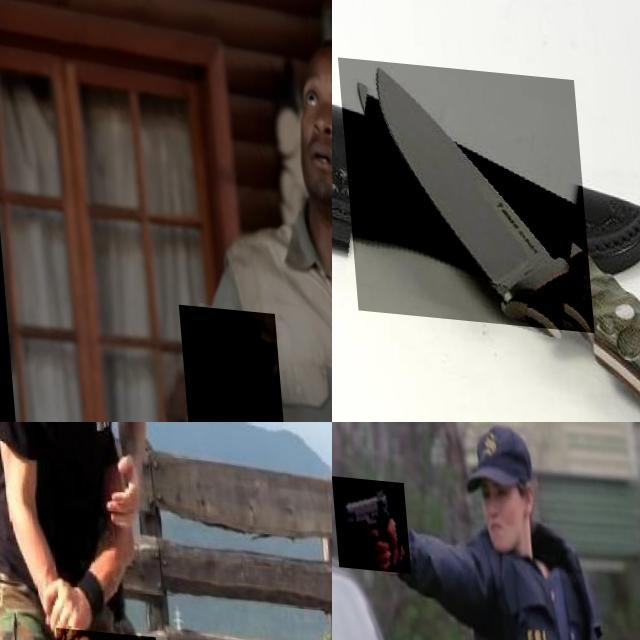-: (336, 53, 588, 324)
gun-knife-thesis - v11 Yolov5 augmented: (172, 300, 278, 422), (332, 472, 407, 568)
